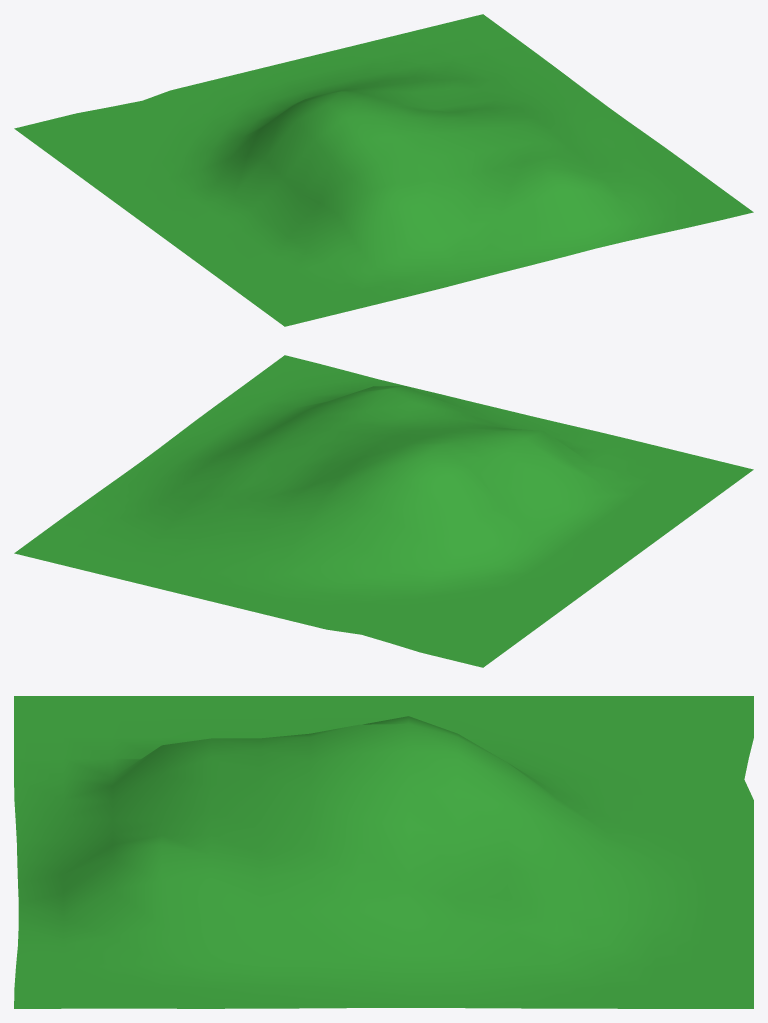
File: PlayField.fbx
The picture shows the model from 3 angles, top to bottom: view 1: azimuth 30°, elevation 25°; view 2: azimuth 150°, elevation 25°; view 3: azimuth 270°, elevation 25°; orthographic projection. The views are drawn at different scales.
Parts seen in each view (by area): view 1: SM_PlayField; view 2: SM_PlayField; view 3: SM_PlayField.
Boxes of the visible parts, x1,y1,x2,y2 form: SM_PlayField: (14,14,753,326); SM_PlayField: (14,355,753,667); SM_PlayField: (14,696,753,1008).
Bounding box in the file's own units: 31.53 × 4.57 × 31.53.
